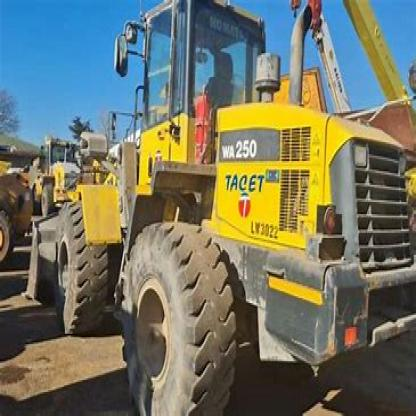bull_dozer/loader/grader: (12, 3, 415, 414)
